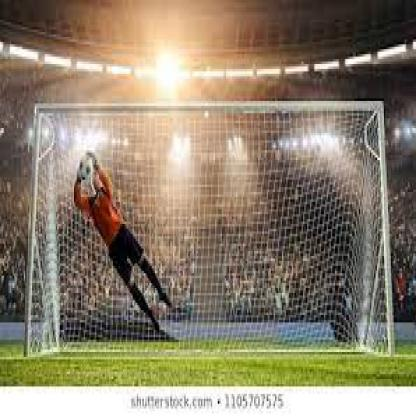goal: (37, 90, 159, 321)
